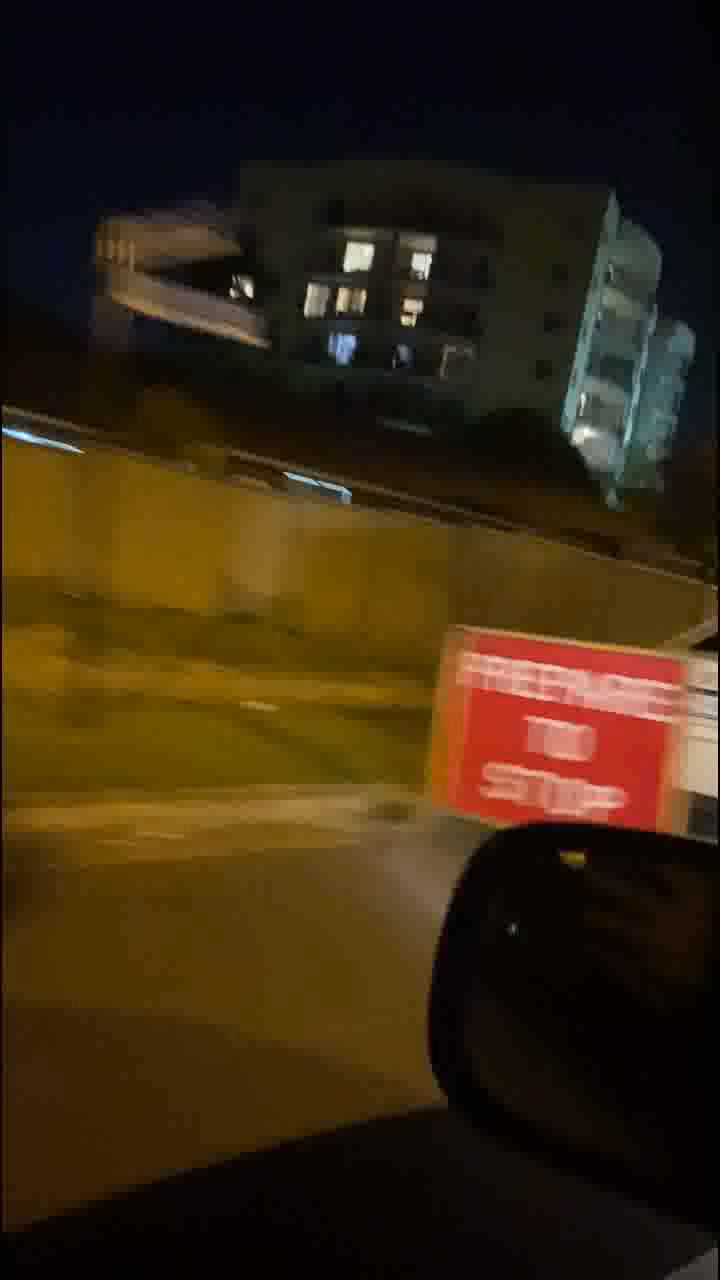prepare to stop board: (428, 628, 707, 840)
